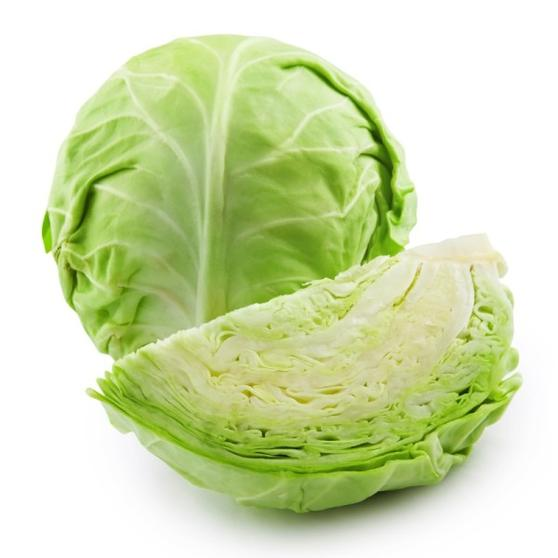cabbage: (47, 27, 414, 361)
